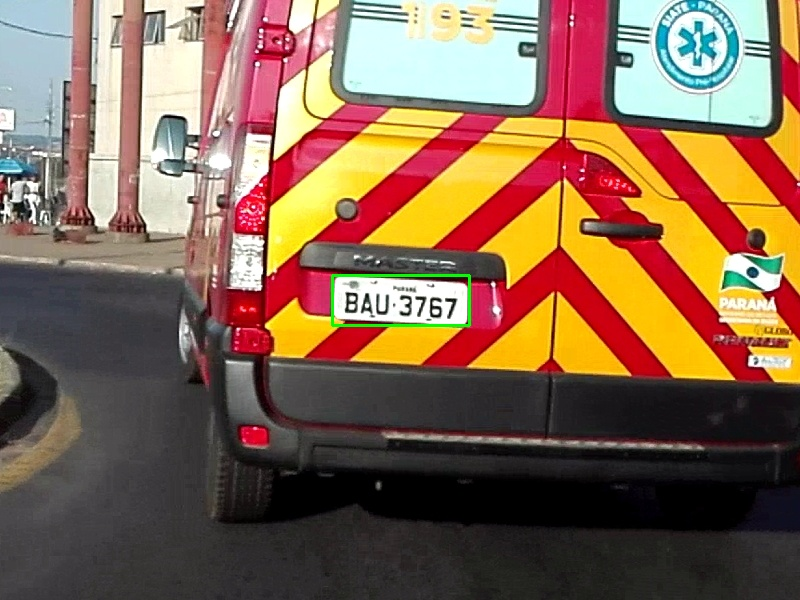placa: (332, 275, 469, 325)
